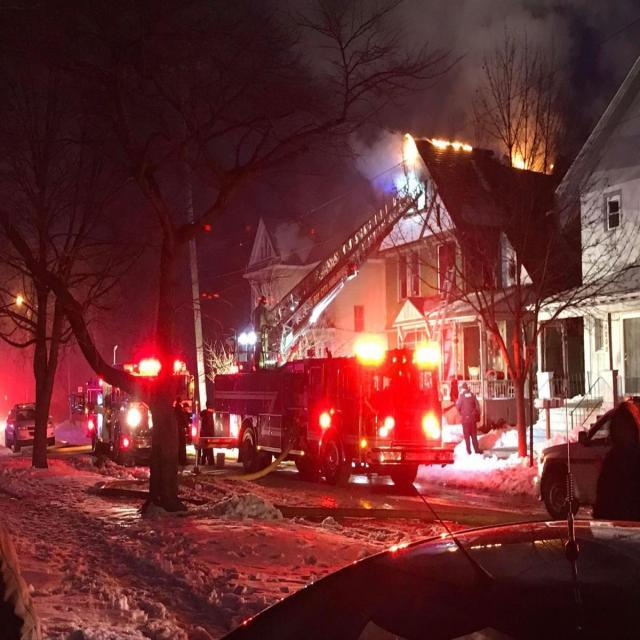Fire: (506, 138, 538, 176), (430, 132, 477, 156), (402, 132, 420, 174)
Smoke: (411, 0, 564, 142), (348, 130, 401, 202)
